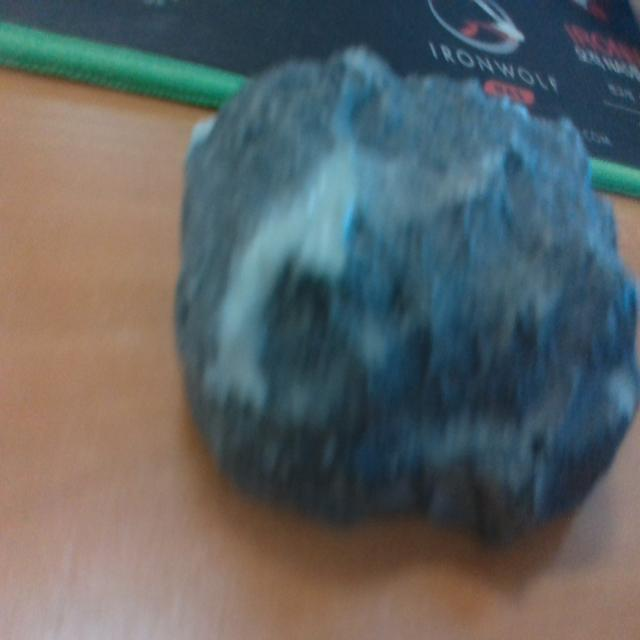stone: (172, 41, 638, 554)
